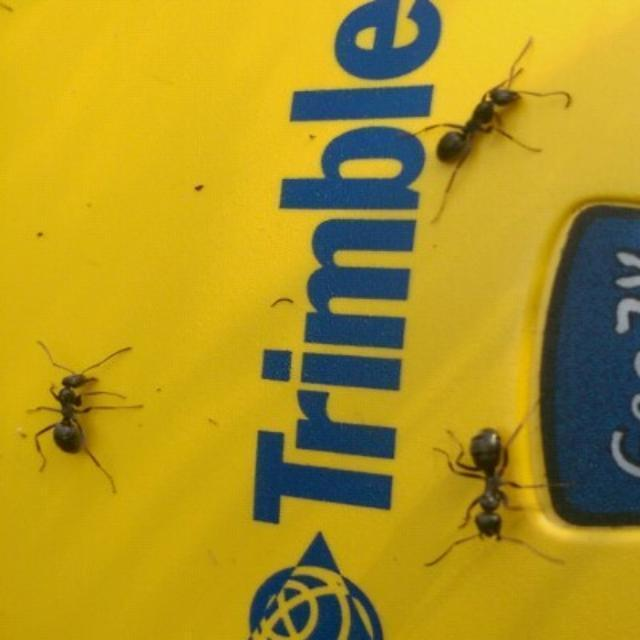Formica: (14, 339, 180, 493), (426, 412, 566, 564), (422, 68, 560, 186)
